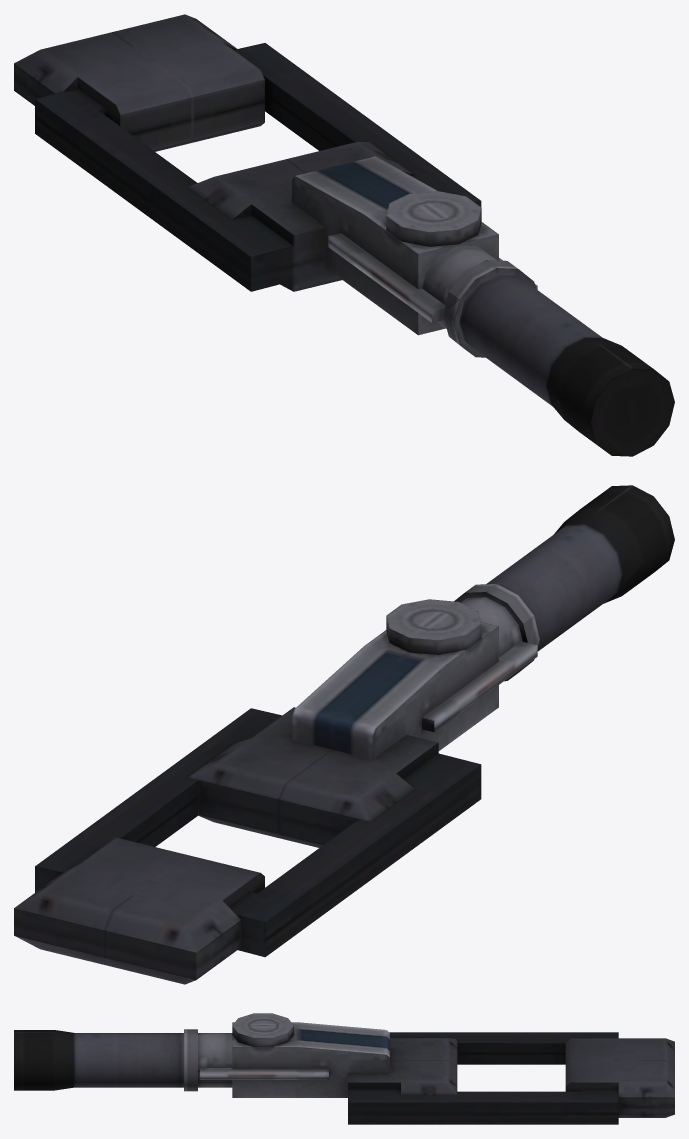
The model's file is TechTool01.FBX.
The picture shows the model from 3 angles, top to bottom: view 1: azimuth 30°, elevation 25°; view 2: azimuth 150°, elevation 25°; view 3: azimuth 270°, elevation 25°; orthographic projection. The views are drawn at different scales.
Parts seen in each view (by area): view 1: TechTool01; view 2: TechTool01; view 3: TechTool01.
Boxes of the visible parts, x1,y1,x2,y2 form: TechTool01: [14, 14, 674, 456]; TechTool01: [14, 485, 674, 984]; TechTool01: [14, 1013, 674, 1124].
Bounding box in the file's own units: 0.176 × 0.0818 × 0.6985.
